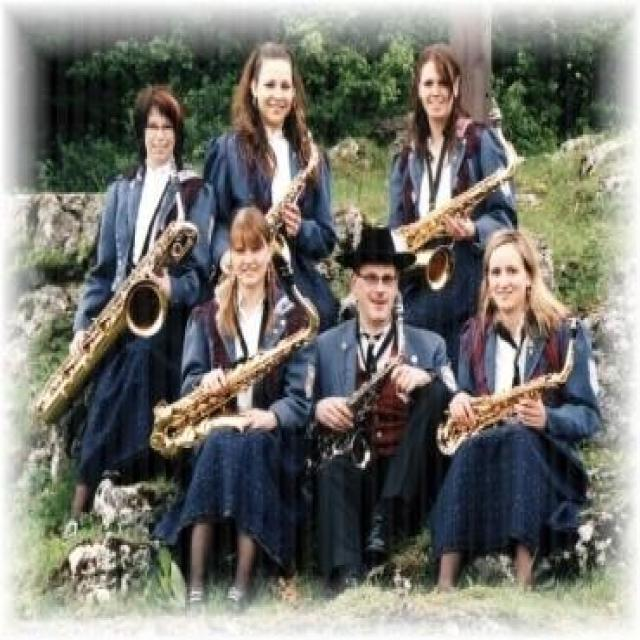saxophone: (150, 251, 320, 450), (382, 102, 521, 291), (439, 316, 584, 452), (218, 131, 320, 285), (301, 353, 405, 478)
